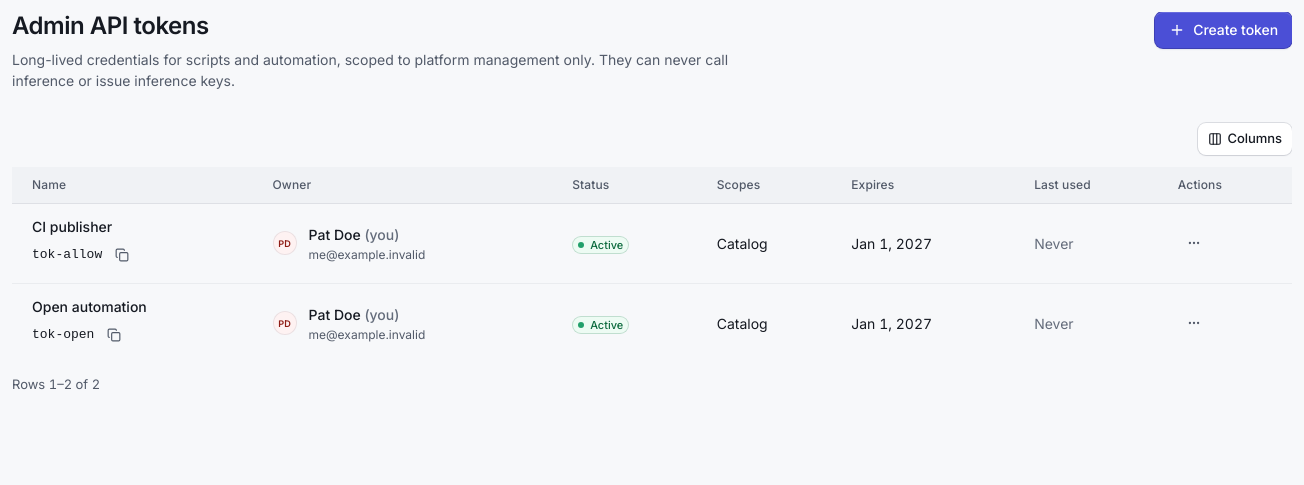
Test case: Admin API tokens list (#37 PR3) › shows the immutable IP allowlist metadata in an optional column, never editable
Expected: the text "CI publisher" is shown, [32,218,112,235]
Click the button "Columns" at (1245, 139), box [1198,123,1292,155]
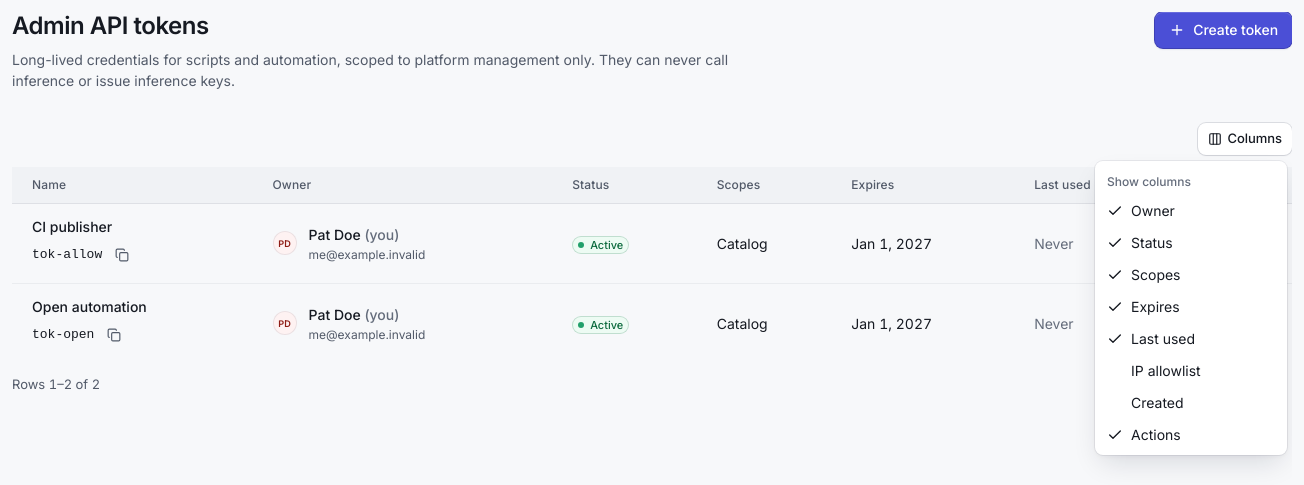
Click the menu item "IP allowlist" at (1166, 370), box [1131,362,1201,379]
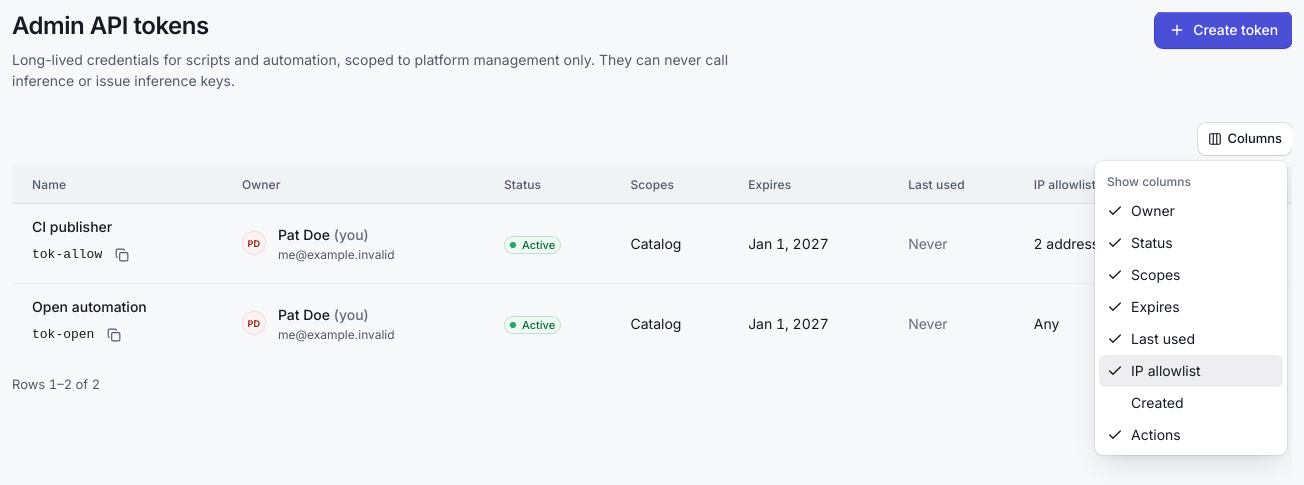
Now the text "2 addresses" is shown, box [1034,235,1115,252]
Now the text "Any" is shown, box [1034,315,1059,332]
